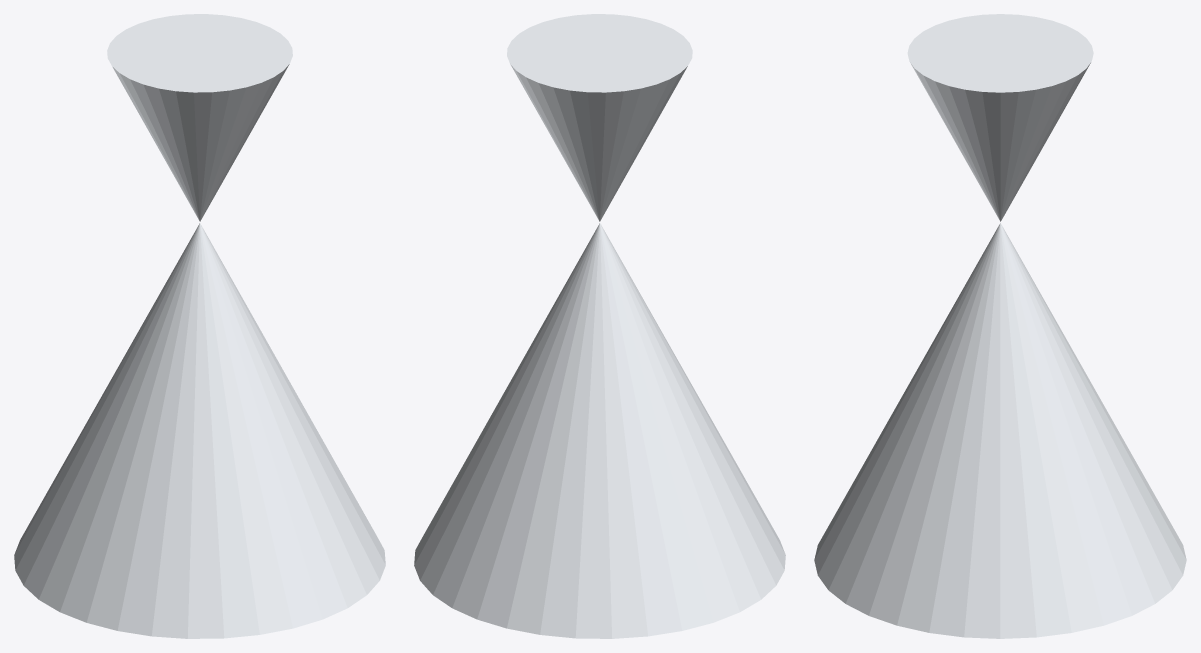
The model's file is fgr_fur_skylampfbx.fbx.
3 views of the same model, side by side, from view 1: azimuth 30°, elevation 25°; view 2: azimuth 150°, elevation 25°; view 3: azimuth 270°, elevation 25° (orthographic).
Visible parts, largest first — view 1: fgr_fur_skylamp; view 2: fgr_fur_skylamp; view 3: fgr_fur_skylamp.
Part boxes in pixels (x1,y1,x2,y2): fgr_fur_skylamp: (14,14,385,638); fgr_fur_skylamp: (414,14,785,638); fgr_fur_skylamp: (814,14,1186,638).
Size of the model in its own units: 1190 by 1787 by 1190.
1 material, 1 textured.
